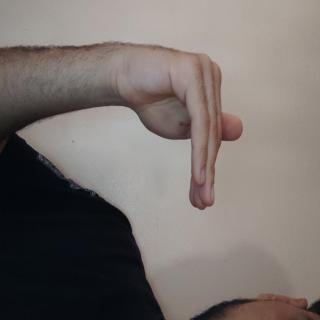KHAA: (25, 97, 159, 287)
